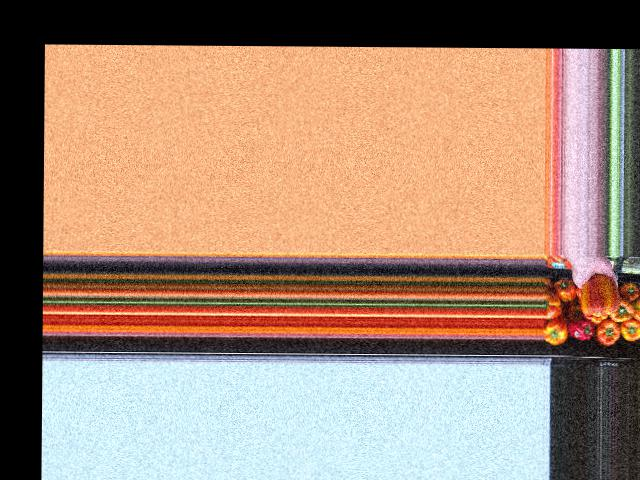bell_pepper: (551, 281, 578, 302)
